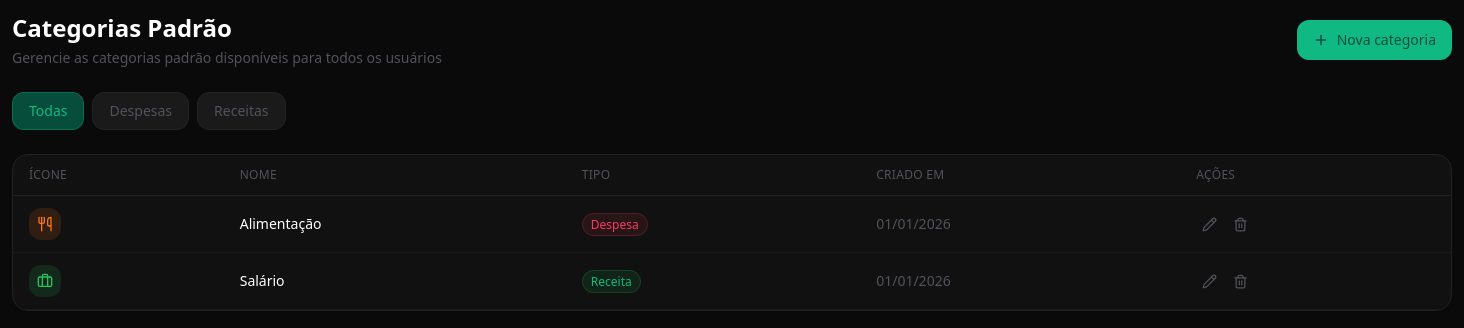
Test: AdminCategoriesPage › deve filtrar apenas receitas ao clicar em Receitas
The width and height of the screenshot is (1464, 328).
Click the button "Receitas": click(241, 111) 197,92 -> 286,130
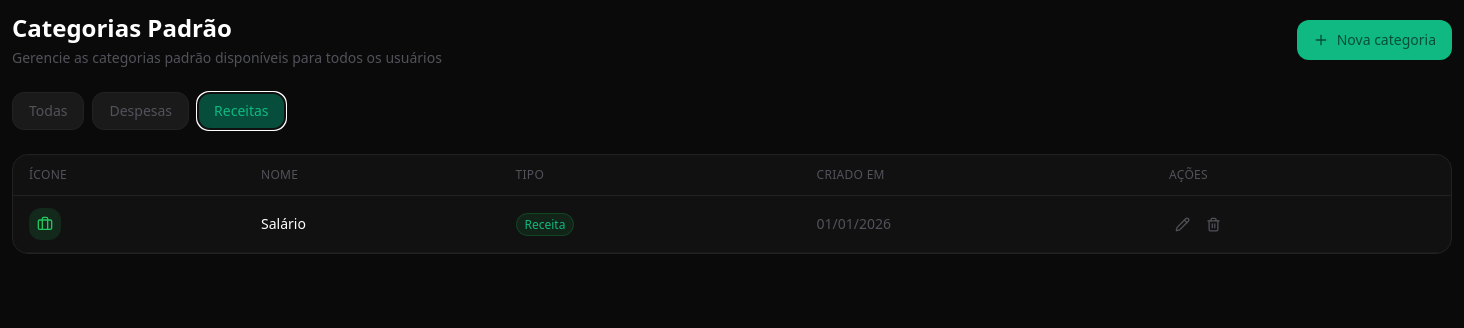
Expected: the text "Salário" is shown, 245,196 -> 500,252
Result: the text "Alimentação" is gone
